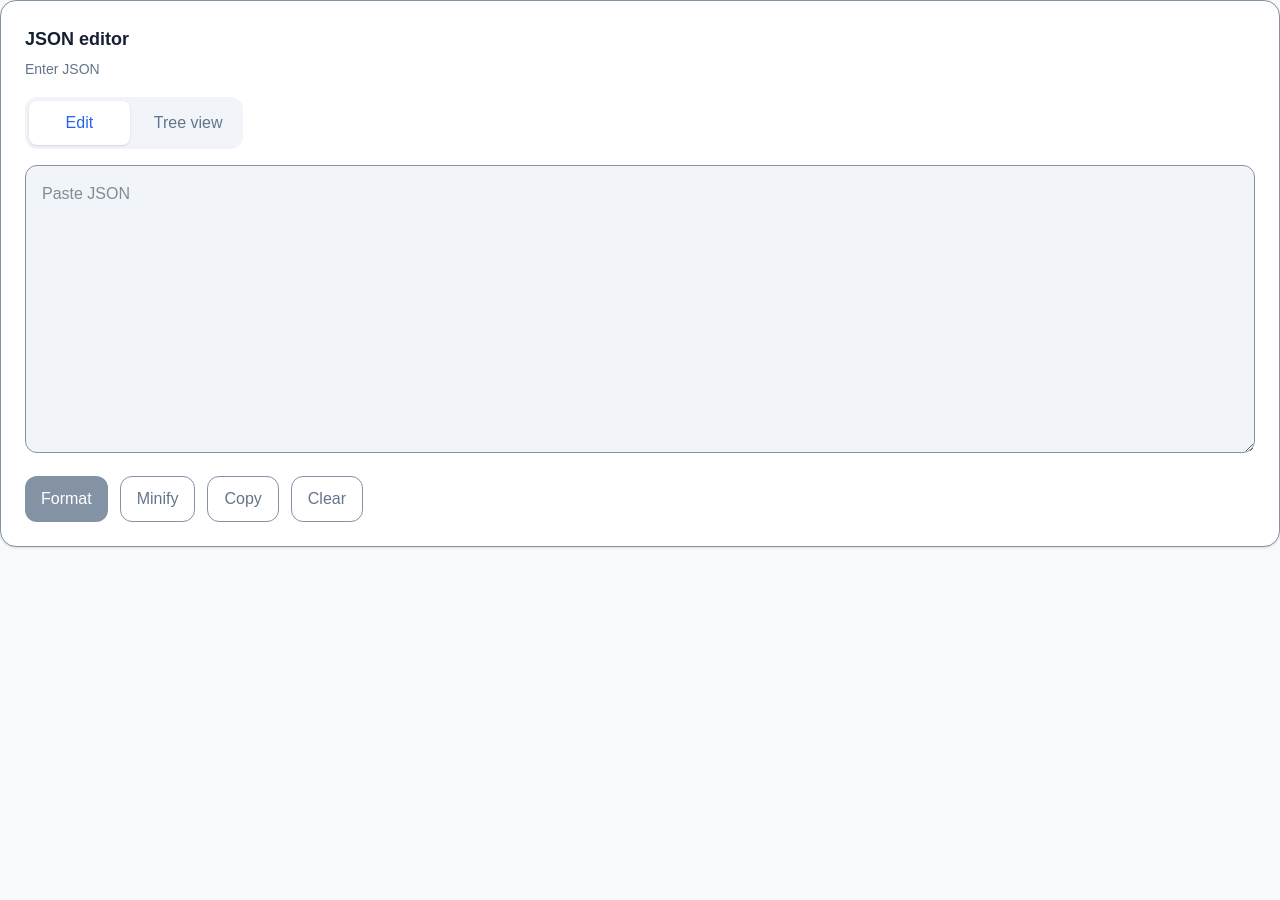
Test: JsonFormatter › handles clipboard rejection without changing input or logging an error
Type "null" into the text box named "JSON editor" at (640, 309), box [25, 165, 1255, 453]
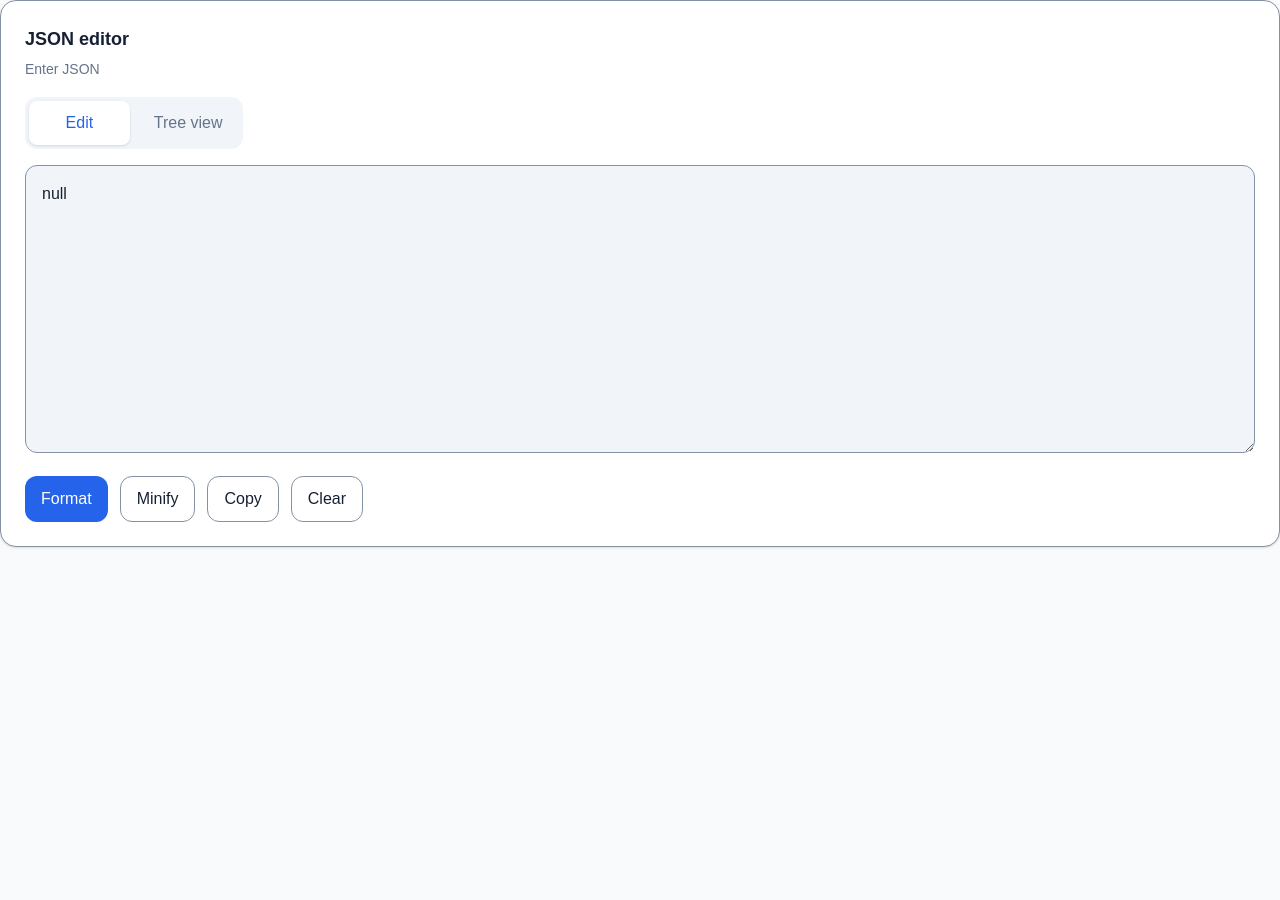
Click the button "Copy" at (243, 499), box [208, 476, 279, 522]
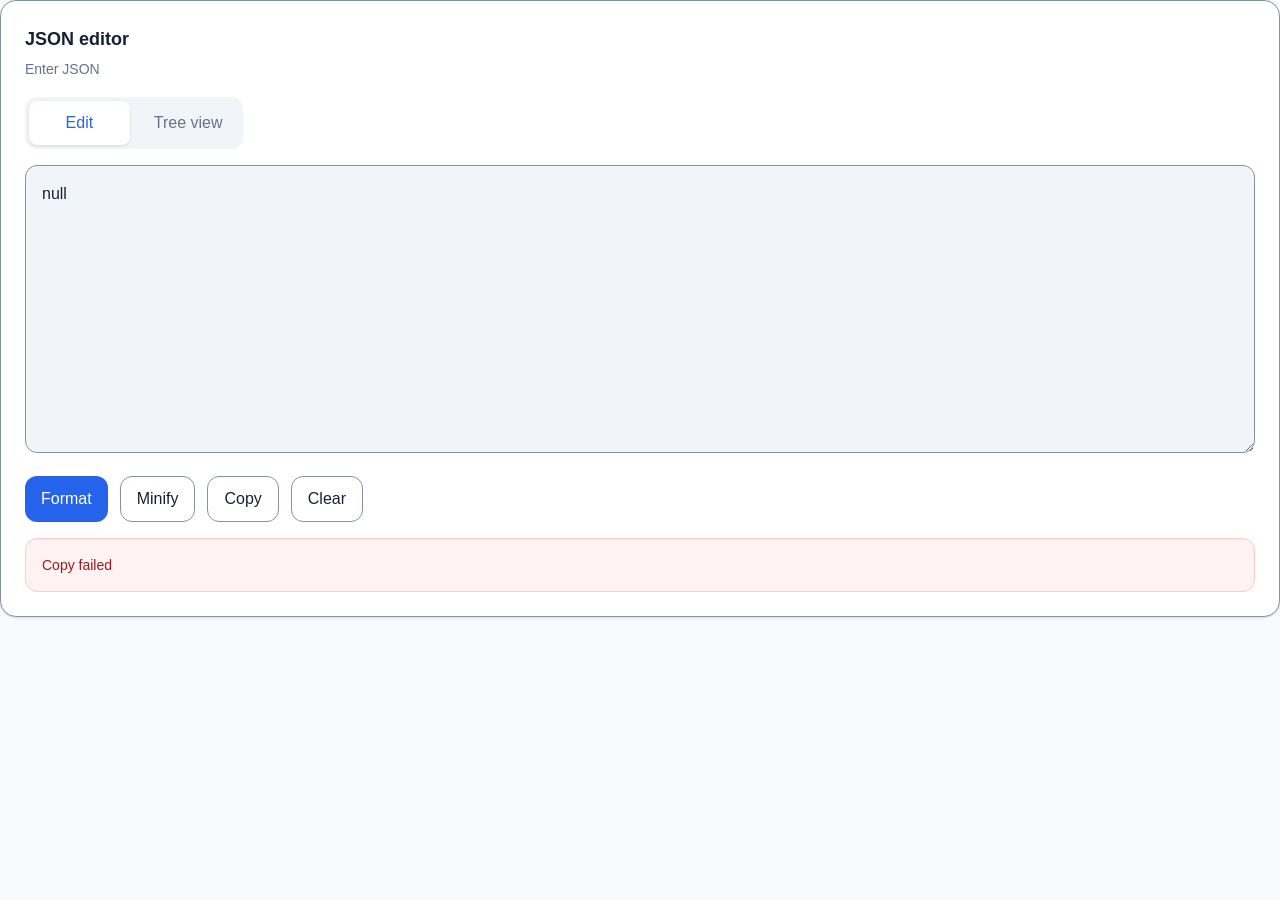
Check: the message reads "Copy failed", box [42, 557, 112, 573]
